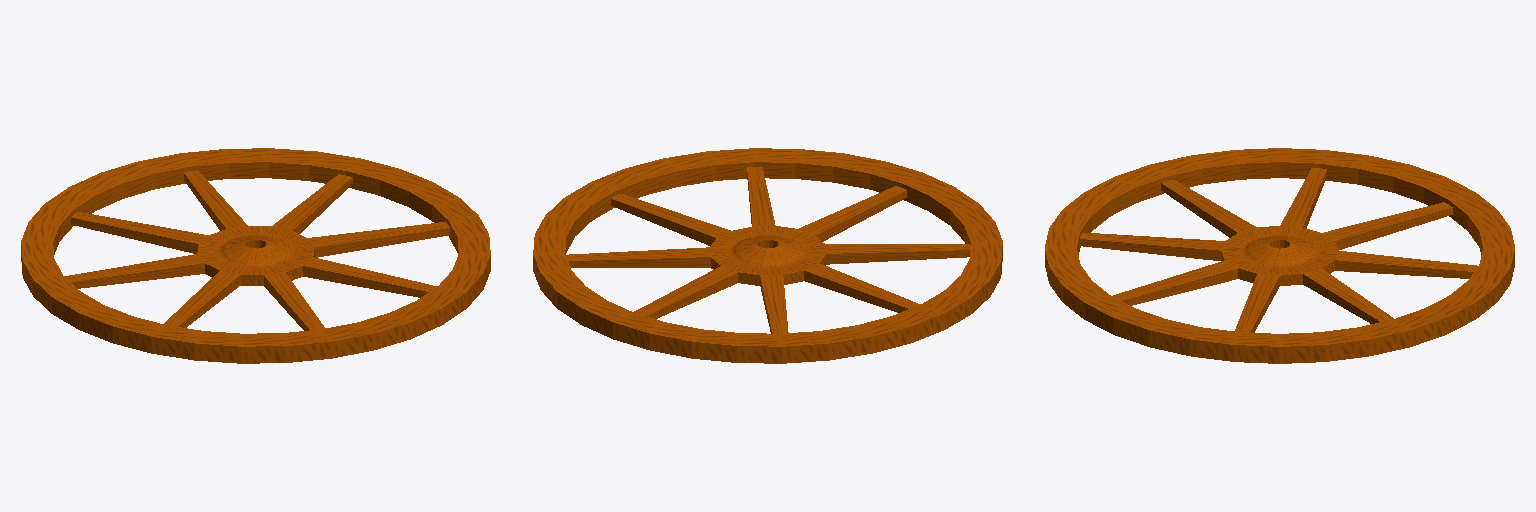
The picture shows the model from 3 angles: view 1: azimuth 30°, elevation 25°; view 2: azimuth 150°, elevation 25°; view 3: azimuth 270°, elevation 25°; orthographic projection.
Visible parts, largest first — view 1: Cylinder.001_Cylinder.002; view 2: Cylinder.001_Cylinder.002; view 3: Cylinder.001_Cylinder.002.
Boxes of the visible parts, box(x1,y1,x2,y2) form: Cylinder.001_Cylinder.002: box(21, 148, 490, 363); Cylinder.001_Cylinder.002: box(533, 148, 1002, 363); Cylinder.001_Cylinder.002: box(1045, 148, 1514, 363).
Bounding box in the file's own units: 12.2 × 0.6821 × 12.2.
Materials: 1 (1 with a texture image).